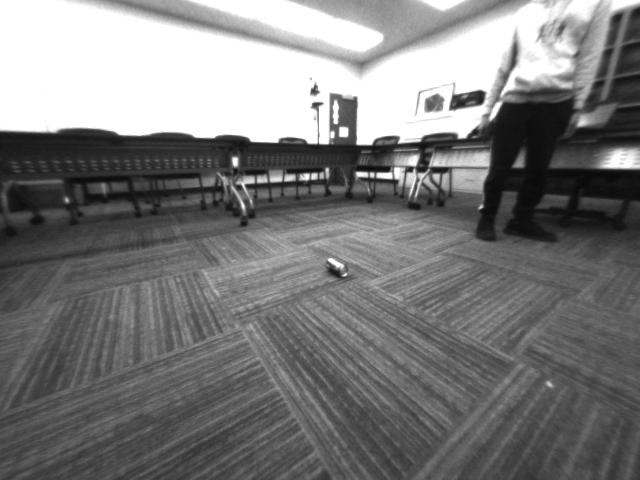can: (315, 252, 356, 279)
